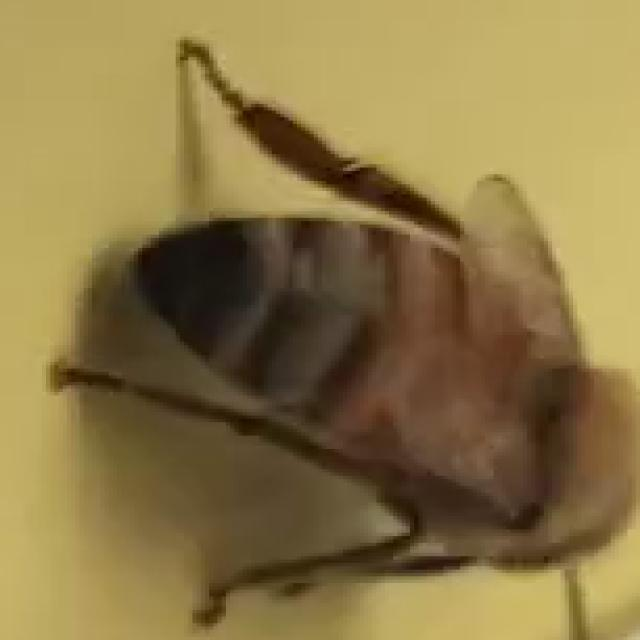honeybee: (127, 140, 640, 640)
